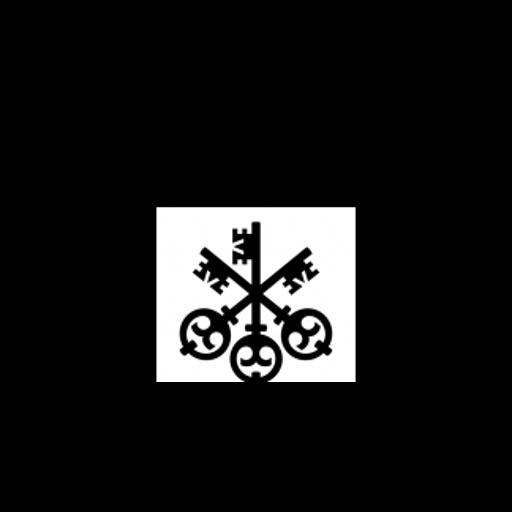UBS AG: (0, 130, 512, 382)
